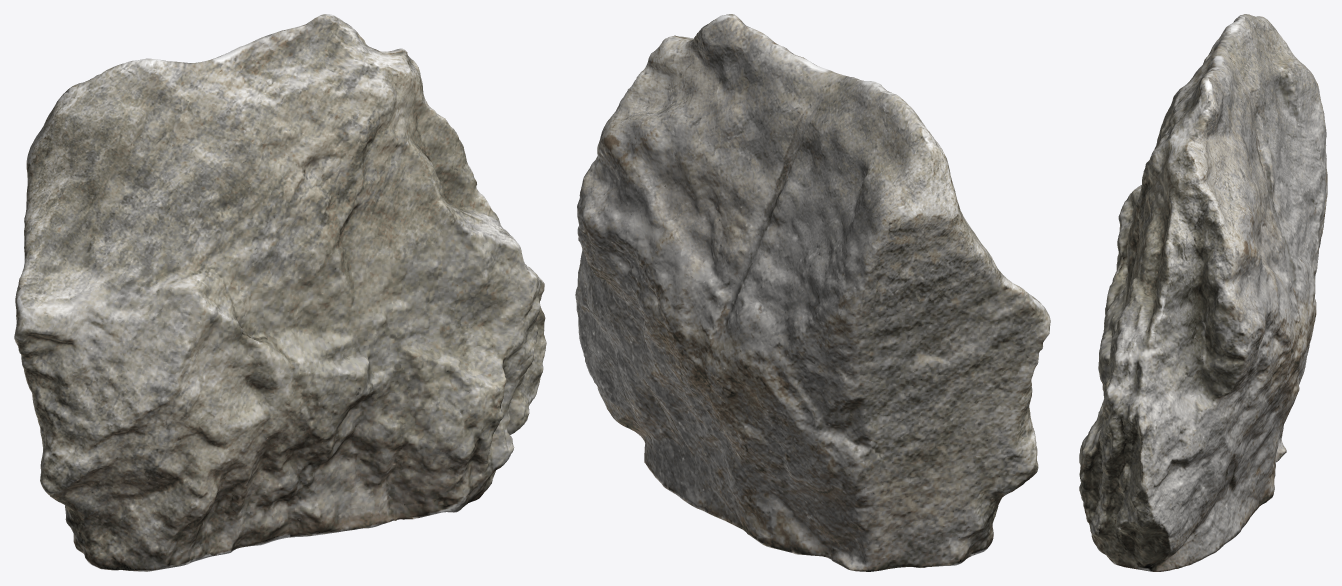
File: sparse1.glb
3 views of the same model, side by side, from view 1: azimuth 30°, elevation 25°; view 2: azimuth 150°, elevation 25°; view 3: azimuth 270°, elevation 25° (orthographic). The views are drawn at different scales.
Visible parts, largest first — view 1: Node; view 2: Node; view 3: Node.
Boxes of the visible parts, x1,y1,x2,y2 form: Node: [14, 14, 546, 571]; Node: [575, 14, 1050, 571]; Node: [1079, 14, 1327, 571].
Size of the model in its own units: 3.96 by 3.67 by 1.84.
1 material, 1 textured.
